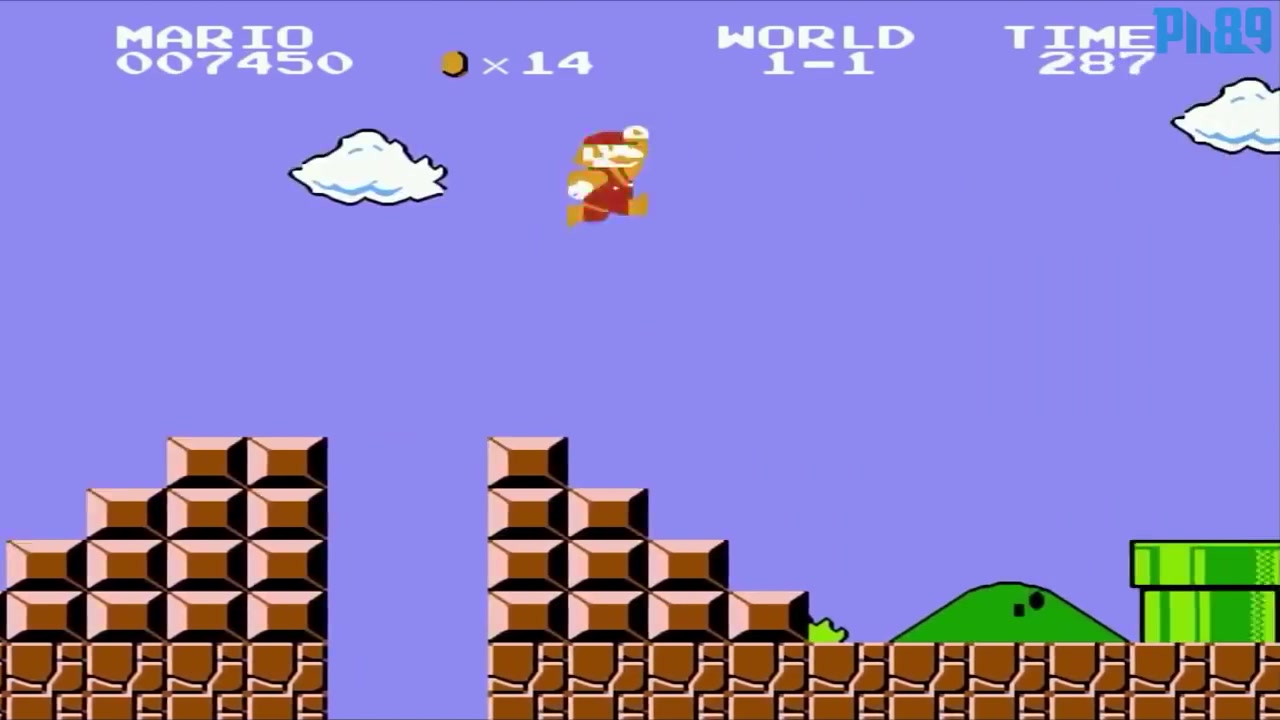mario: (558, 118, 656, 229)
